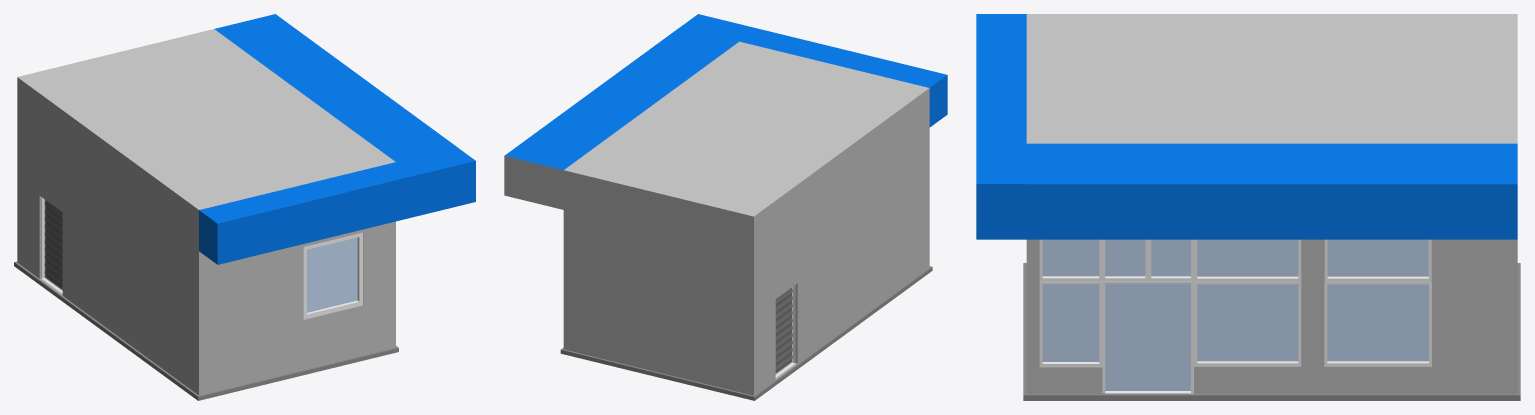
The model's file is building14.fbx.
The picture shows the model from 3 angles, left to right: view 1: azimuth 30°, elevation 25°; view 2: azimuth 150°, elevation 25°; view 3: azimuth 270°, elevation 25°; orthographic projection. The views are drawn at different scales.
Visible parts, largest first — view 1: building_004; view 2: building_004; view 3: building_004.
Boxes of the visible parts, x1,y1,x2,y2 form: building_004: [14, 14, 475, 400]; building_004: [504, 14, 947, 400]; building_004: [976, 14, 1520, 400].
Size of the model in its own units: 13.22 by 9.2 by 17.74.
